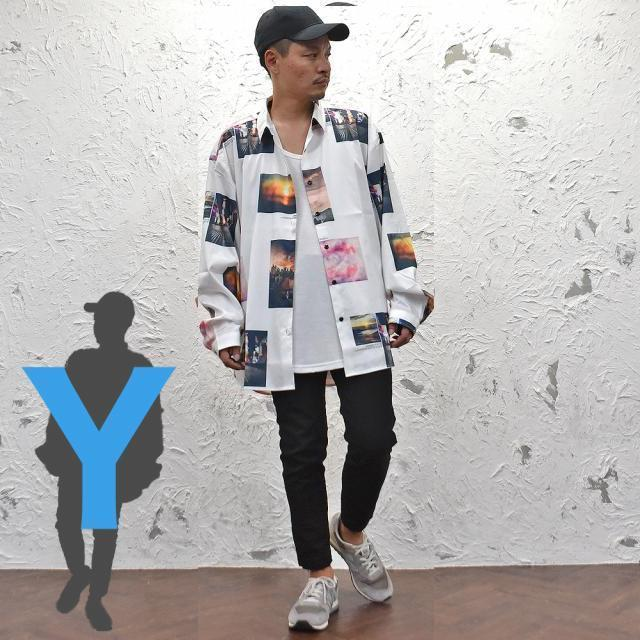direk: (198, 6, 434, 640)
